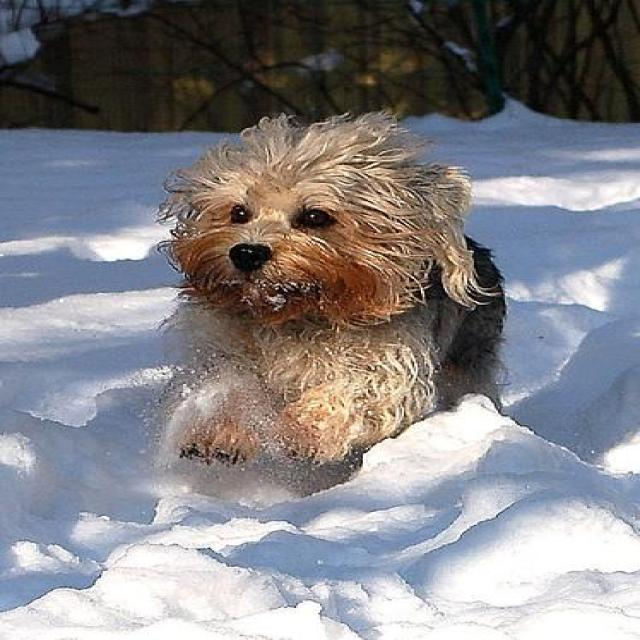dandie_dinmont: (154, 109, 508, 463)
